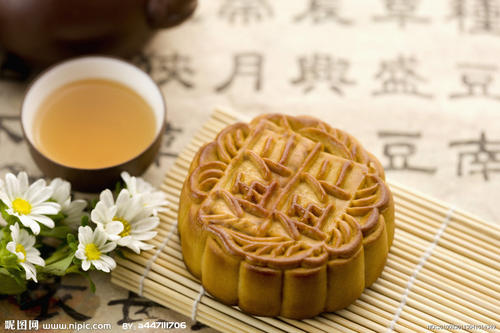MoonCake: (177, 113, 393, 317)
